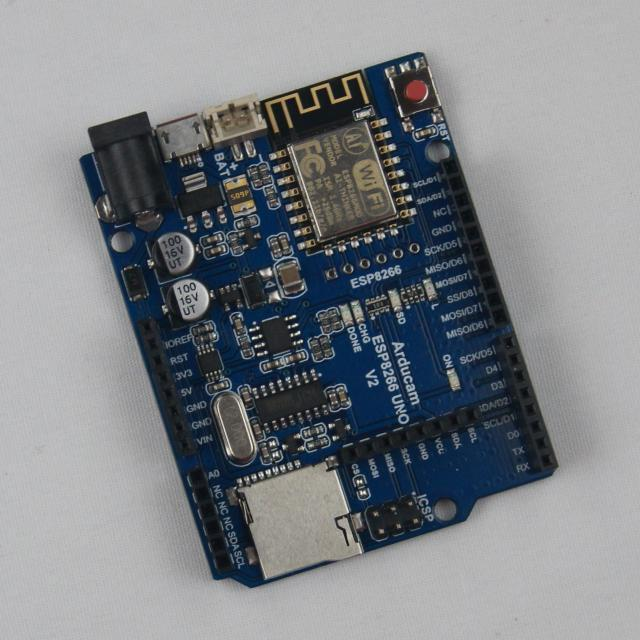Arduino Uno Camera Shield: (82, 53, 558, 587)
